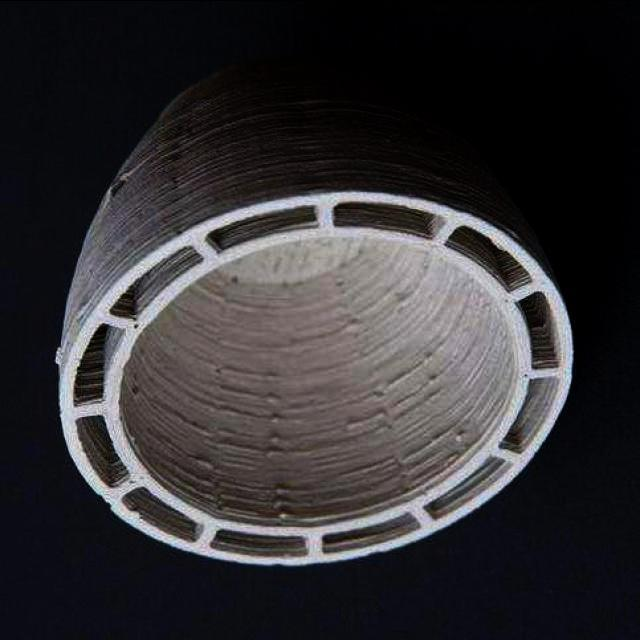zits: (262, 439, 284, 462), (447, 423, 468, 443), (271, 478, 288, 502), (340, 316, 360, 336), (276, 507, 296, 525), (266, 404, 284, 424), (266, 492, 288, 508), (267, 429, 286, 444), (267, 390, 283, 406)
